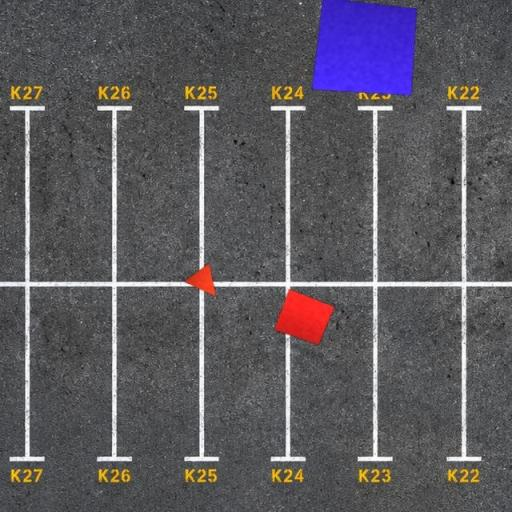BLUE_SQUARE: (310, 0, 418, 96)
RED_SQUARE: (274, 288, 335, 346)
